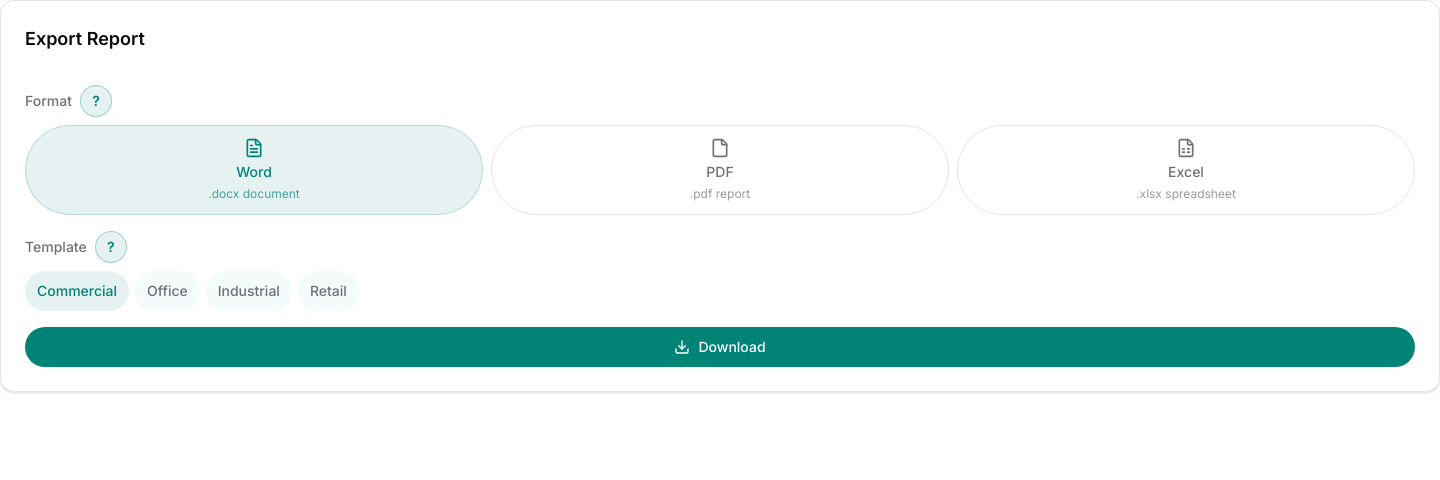
Test: ExportPanel › shows error message when mutation fails
This screenshot has width=1440, height=480.
Click the button with test id "download-button". click: x=720, y=347
box: left=25, top=327, right=1415, bottom=367
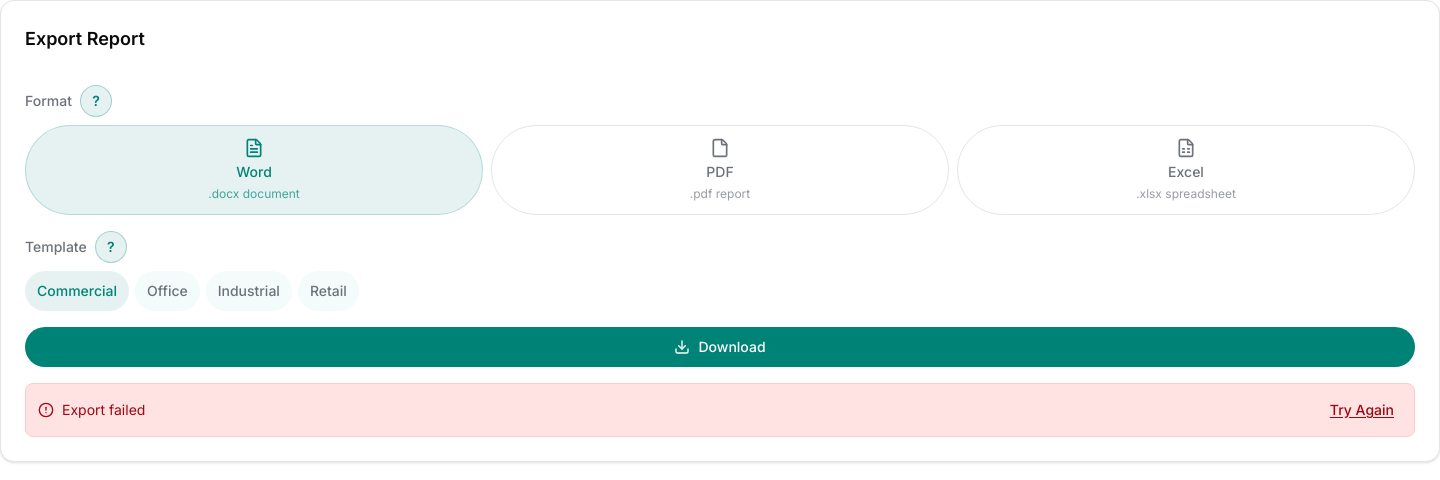
Now the element with test id "export-error" is shown, box left=25, top=383, right=1415, bottom=437
Now the text "Export failed" is shown, box left=62, top=401, right=145, bottom=418
